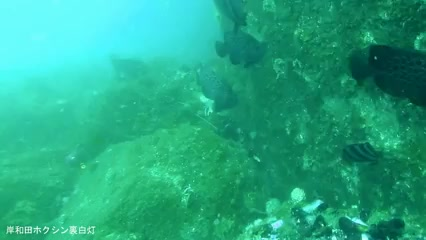smallfish: (213, 29, 272, 71)
